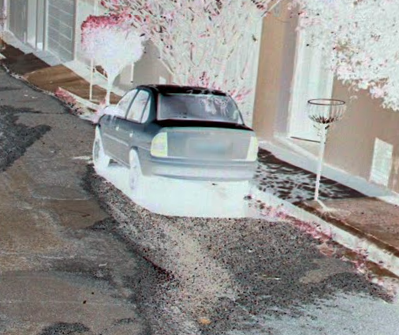car: (92, 77, 263, 204)
